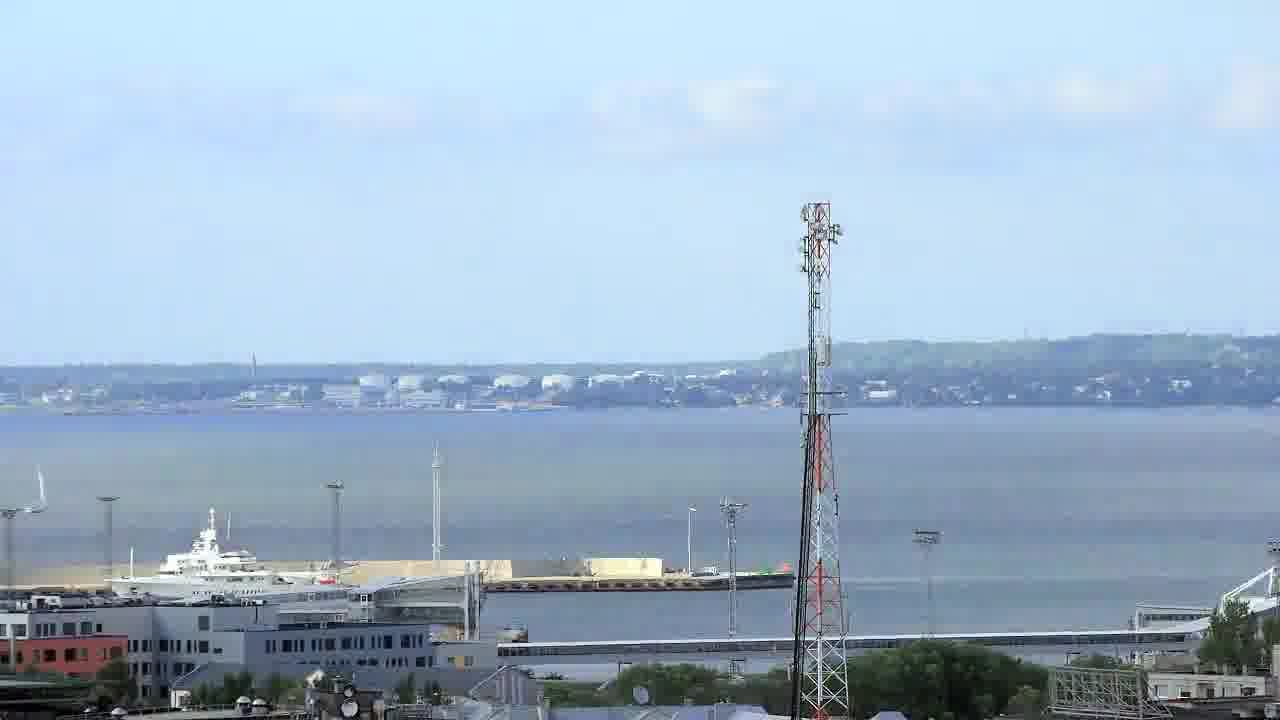type-2: (8, 467, 61, 521)
type-3: (84, 515, 355, 603)
